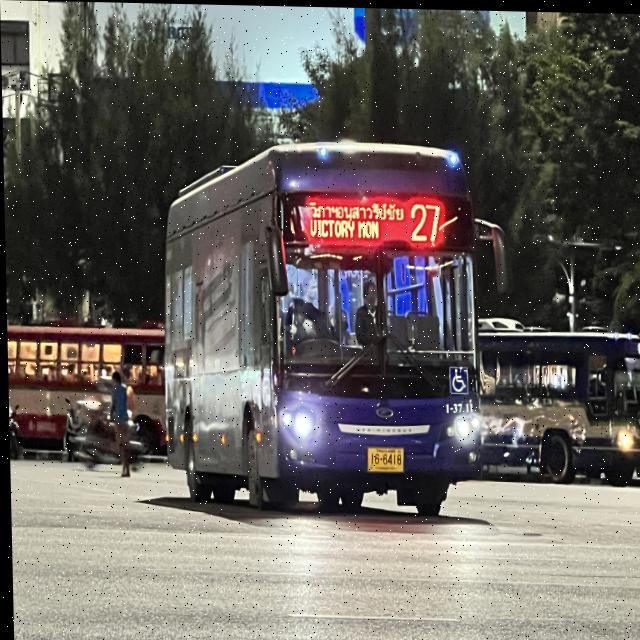BMTA-bus: (477, 318, 640, 484), (6, 322, 163, 468)
Bus Line Number: (403, 193, 446, 247)
Bus Side Number: (443, 397, 474, 414)
Destination Sign: (305, 192, 403, 244)
TSB-Bus: (160, 139, 484, 516)
